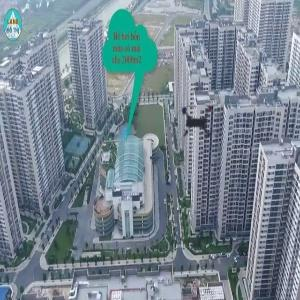drone: (152, 77, 248, 173)
